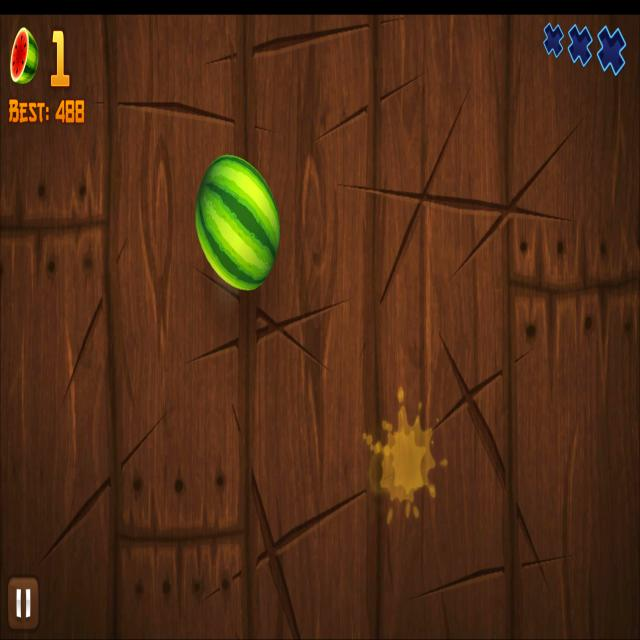fruit: (195, 153, 282, 292)
